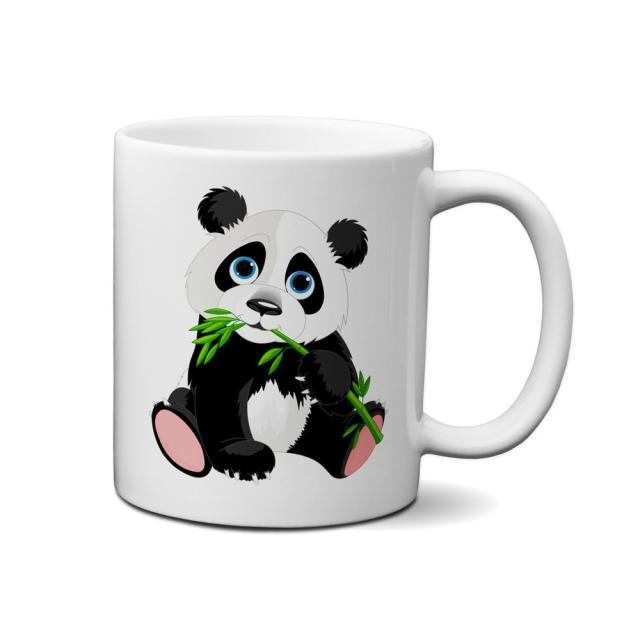Coffee Mug: (112, 114, 574, 532)
